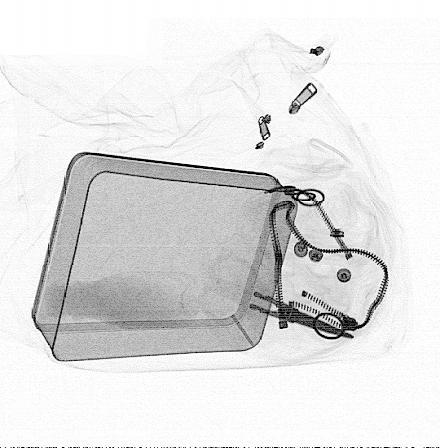Scissors: (199, 252, 354, 341)
